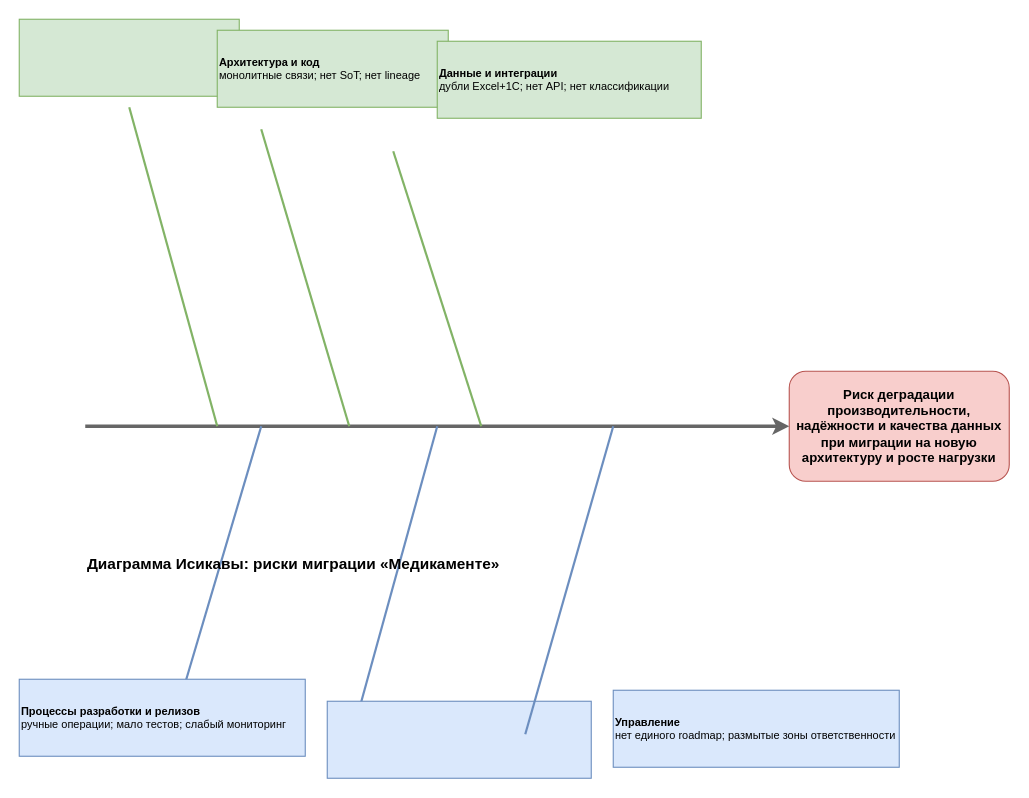
This 1029x798 diagram has some shape labels left out. Each missing label, with the centre of its shape:
"Инфраструктура мало мощности; нет HA; нет гориз. масштаба" goes at point (128, 57).
"Люди и компетенции мало опыта DWH/K8s; нет команды миграции" goes at point (458, 739).
